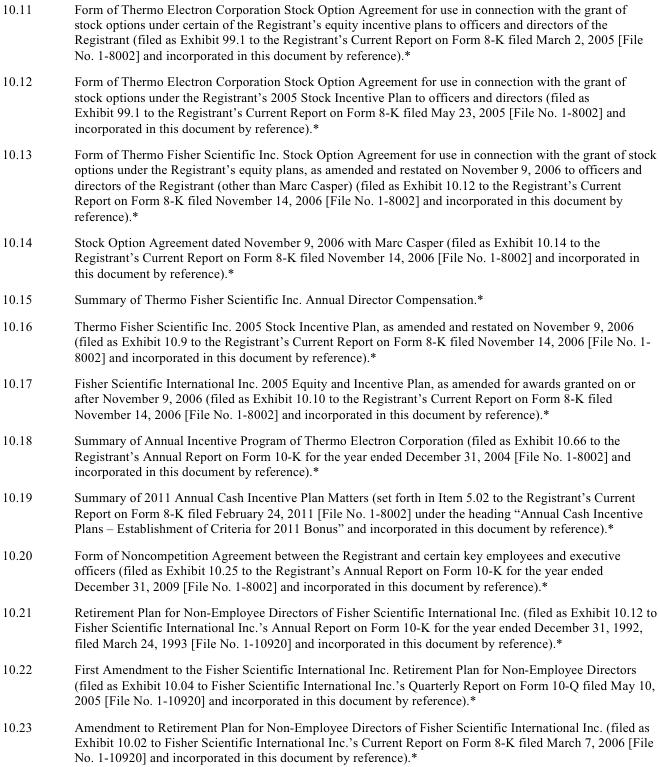table: (1, 0, 655, 764)
table column: (52, 0, 655, 764), (1, 0, 52, 764)
table row: (1, 140, 655, 228), (1, 67, 655, 140), (1, 0, 655, 67), (1, 483, 655, 541), (1, 228, 655, 285), (1, 312, 655, 369), (1, 369, 655, 426), (1, 426, 655, 483), (1, 541, 655, 598), (1, 598, 655, 655), (1, 655, 655, 712), (1, 712, 655, 764), (1, 285, 655, 312)
